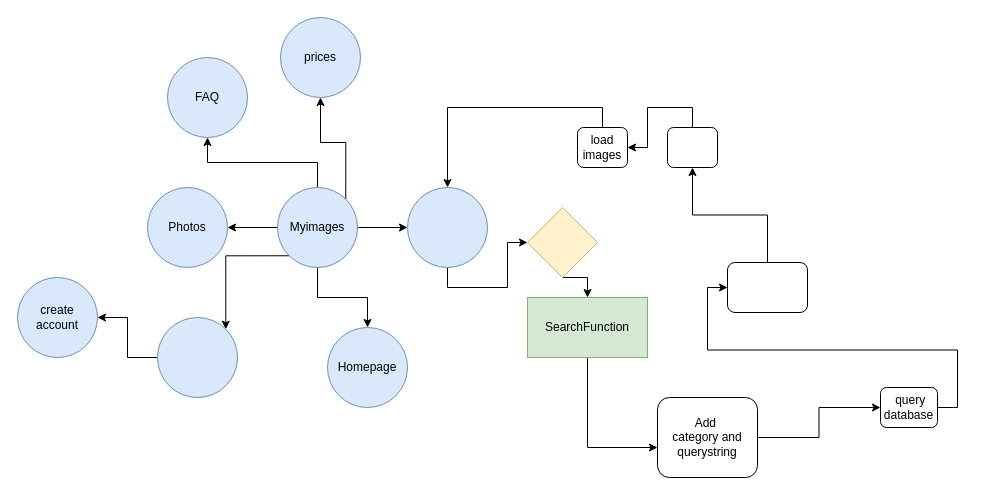
The diagram is 983 pixels wide and 495 high, and some of its shapes have lost their labels. The centre of each missing label's shape, as x and y in pixels:
"compare keywords to database" goes at (767,287).
"did search?" goes at (562,242).
"get images" goes at (692,147).
"login" goes at (197,357).
"searchPage" goes at (447,227).
